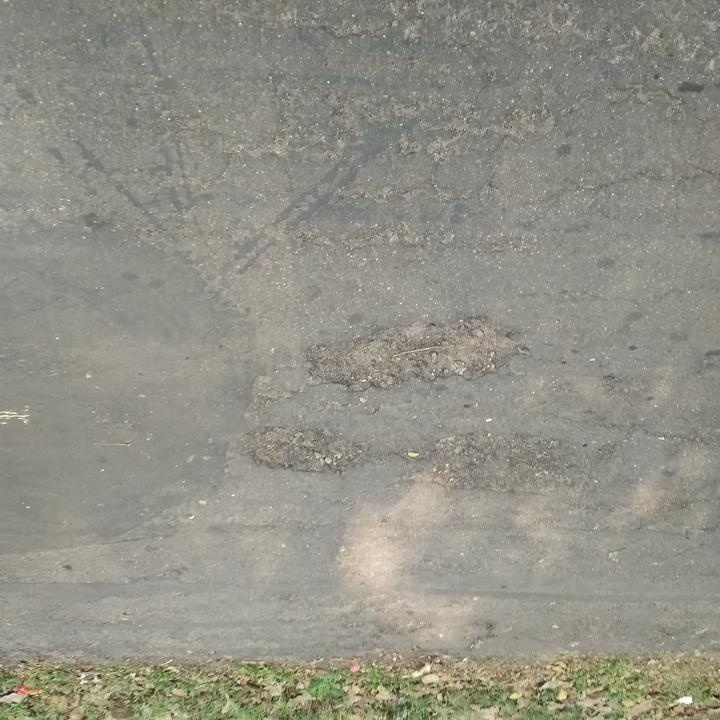pothole: (302, 314, 532, 398), (418, 428, 579, 498), (244, 421, 367, 480)
